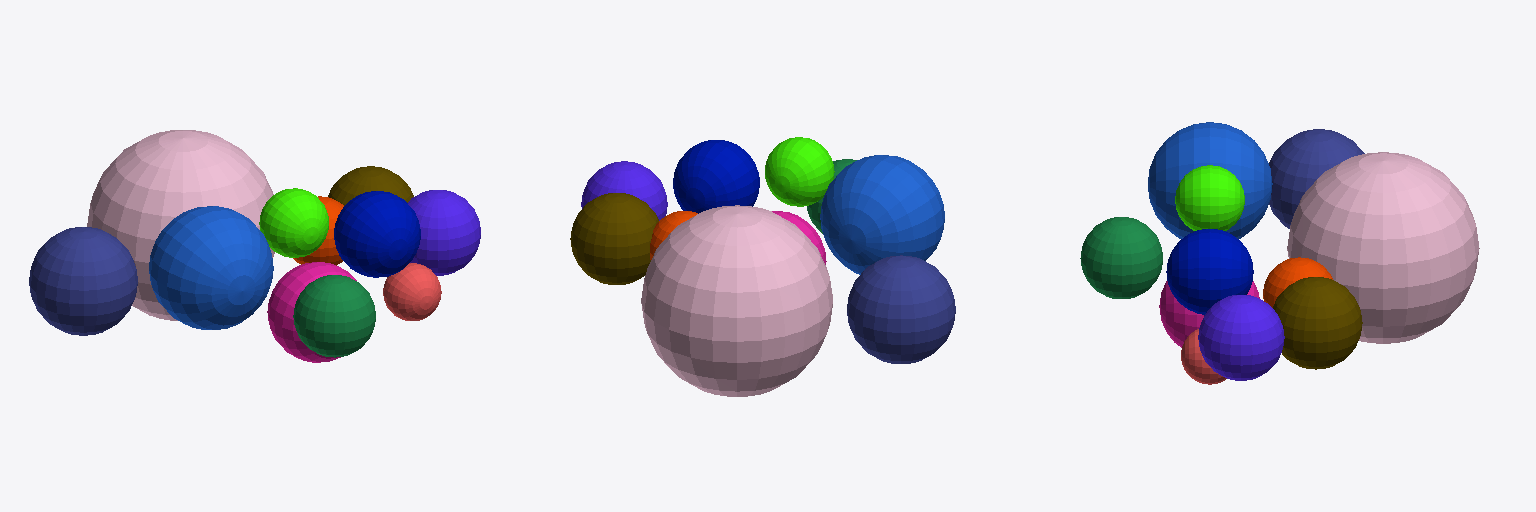
File: Spheres.obj
The picture shows the model from 3 angles: view 1: azimuth 30°, elevation 25°; view 2: azimuth 150°, elevation 25°; view 3: azimuth 270°, elevation 25°; orthographic projection.
Bounding box in the file's own units: 52.87 × 22.57 × 45.62.